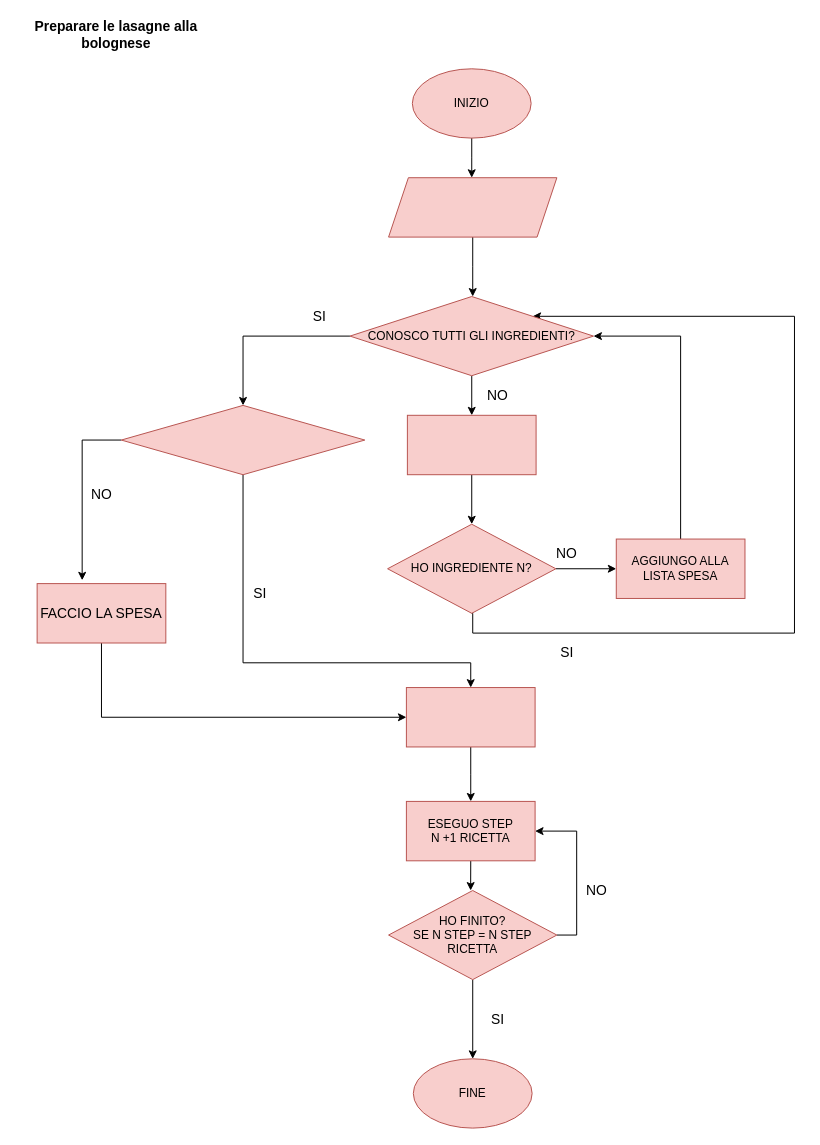
Some shapes in this 820 by 1145 pixel diagram are drawn without their labels. Each missing label, with the centre of its shape:
CONTROLLO INGREDIENTE N: the point at 471,444
HO TUTTI GLI INGREDIENTI?: the point at 242,439
LEGGO COSA DEVO FARE: the point at 470,717
RICETTA: the point at 472,207
